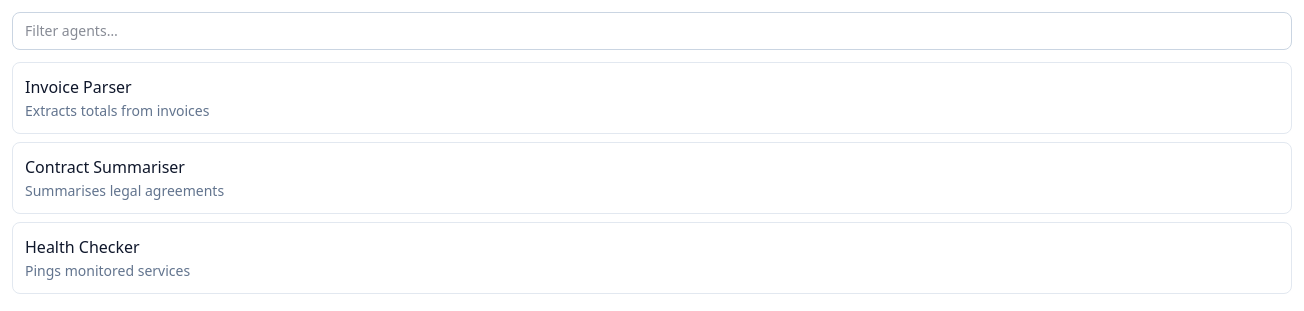
Test: AgentList filtering › narrows by name as the user types
In the search field labelled "Filter agents…": (652, 31) [12, 12, 1292, 50], type "invoice"
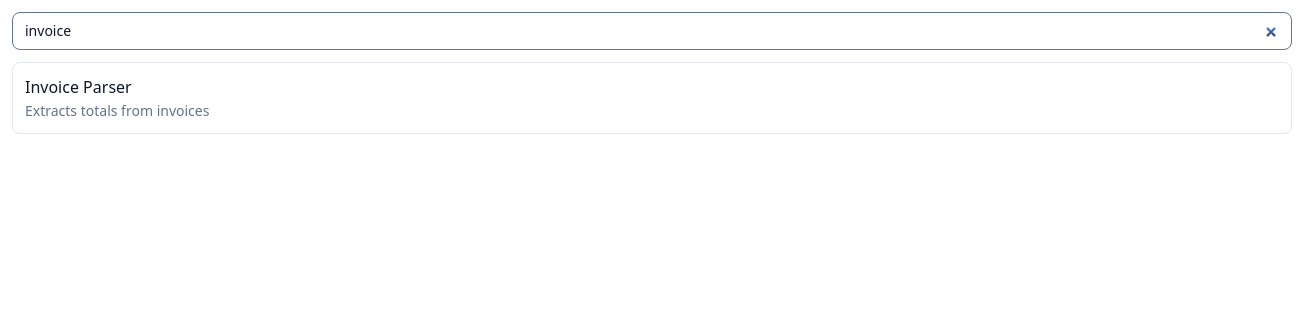
Expected: the text "Invoice Parser" is shown, [25, 76, 132, 98]
Expected: the link "Contract Summariser" is gone
Expected: the link "Health Checker" is gone
